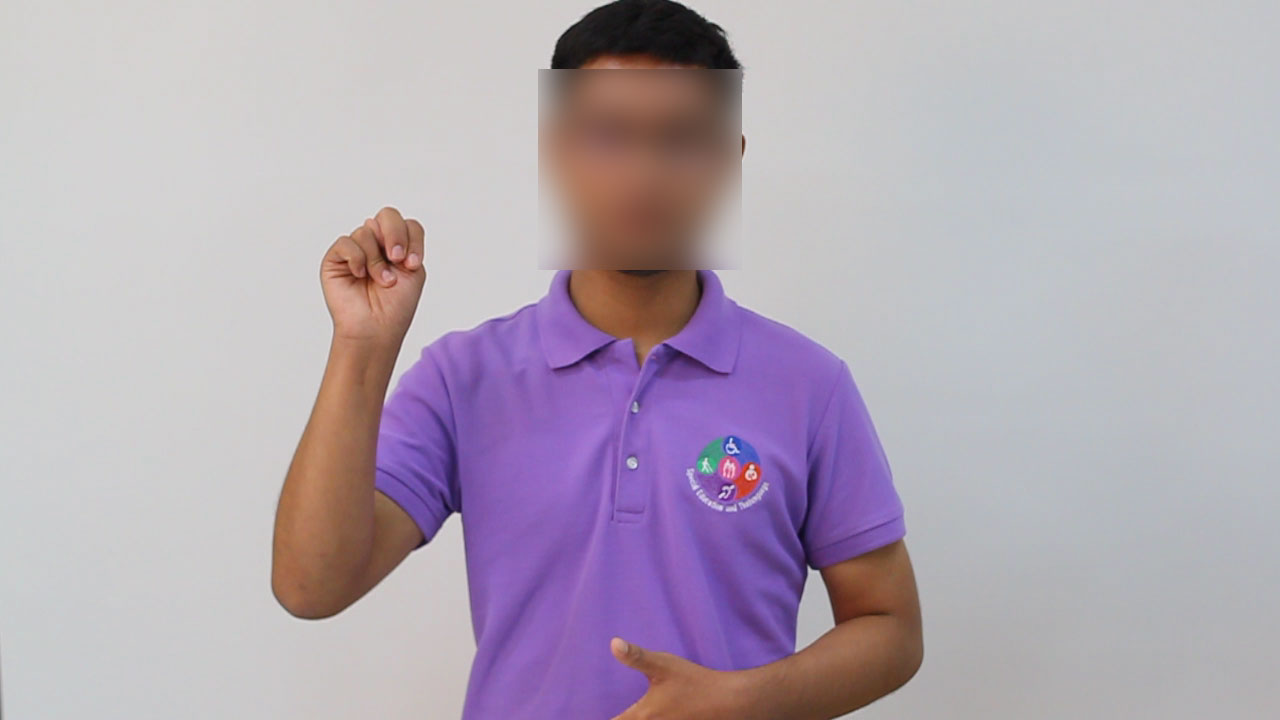nor: (310, 197, 440, 350)
